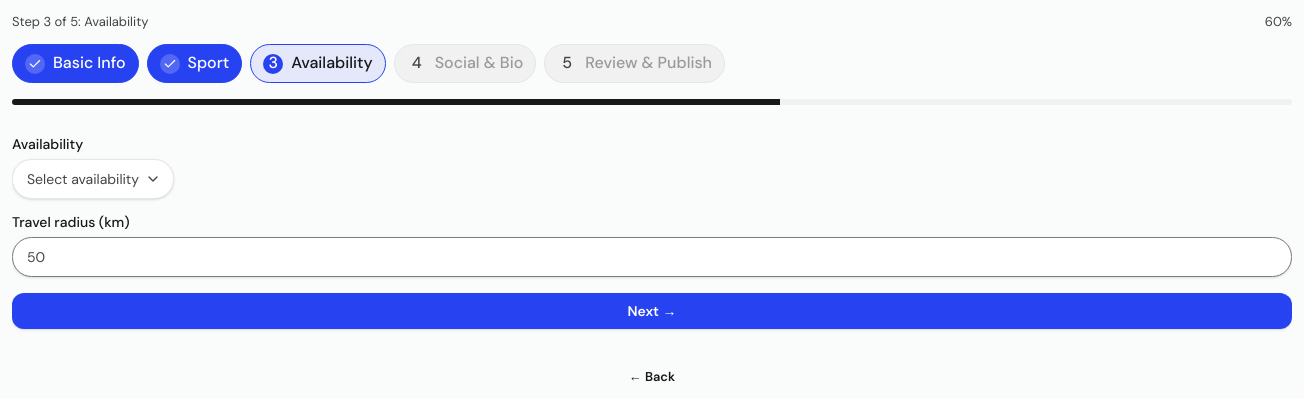
ProfileWizard › step 3: availability options use clean human-readable labels
What coordinates should you click on to do the following:
click the dropdown labelled "Select availability ▼"
I would click on:
 (93, 179)
Its box is [12,159,174,199].
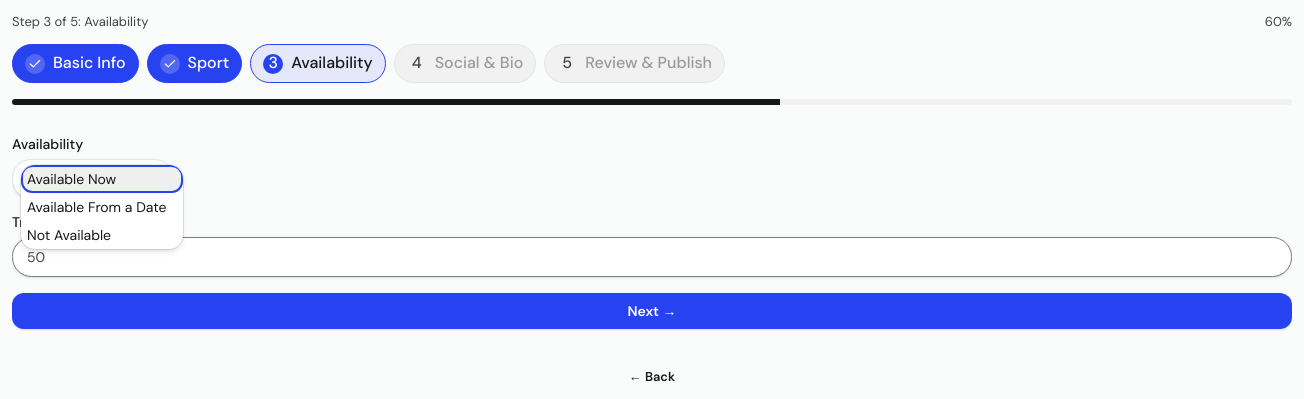
Result: the option "Available Now" is shown at [21,165,183,193]
Result: the option "Available From a Date" is shown at [21,193,183,221]
Result: the option "Not Available" is shown at [27,226,111,244]
